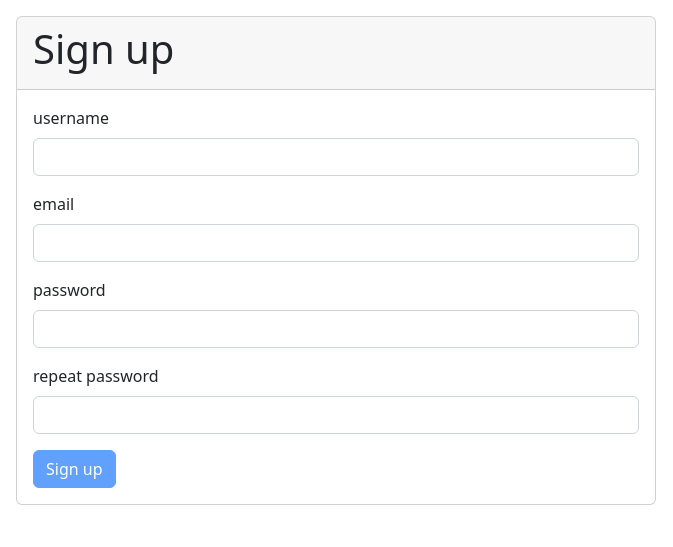
Test: Sign up page › Interactions › displays Incorrect username for username
The width and height of the screenshot is (673, 547).
Type "user1" into the field labelled "username" at (336, 157), box [33, 138, 639, 176]
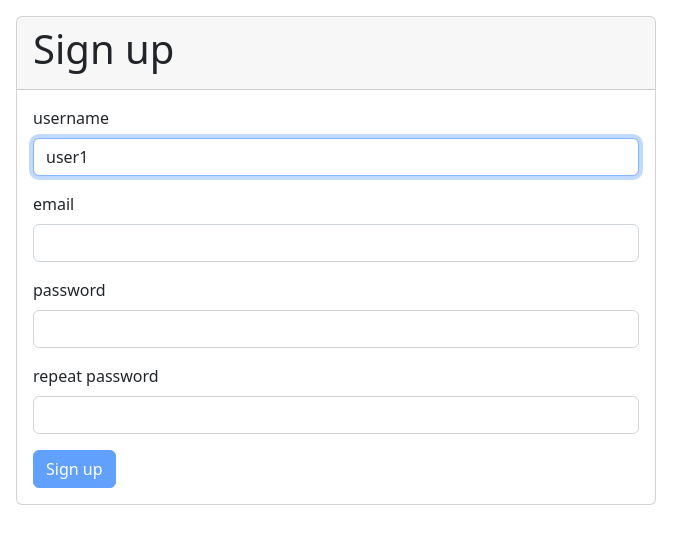
Type "user1@gmail.com" into the field labelled "email" at (336, 243), box [33, 224, 639, 262]
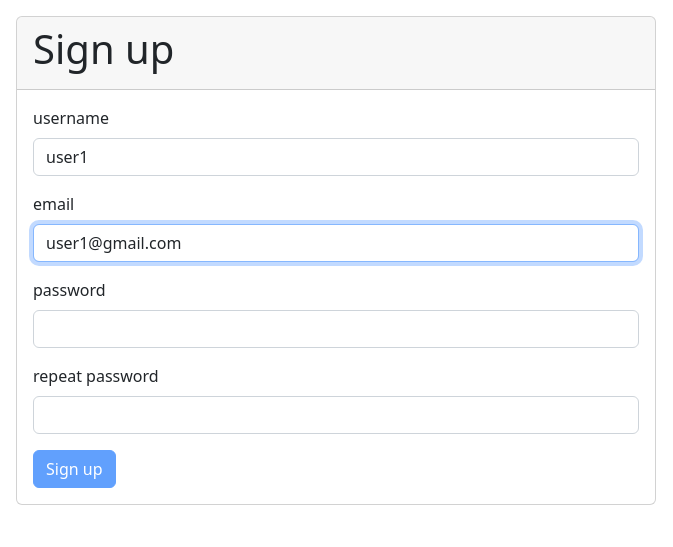
Type "P4ssword" into the password field labelled "password" at (336, 329), box [33, 310, 639, 348]
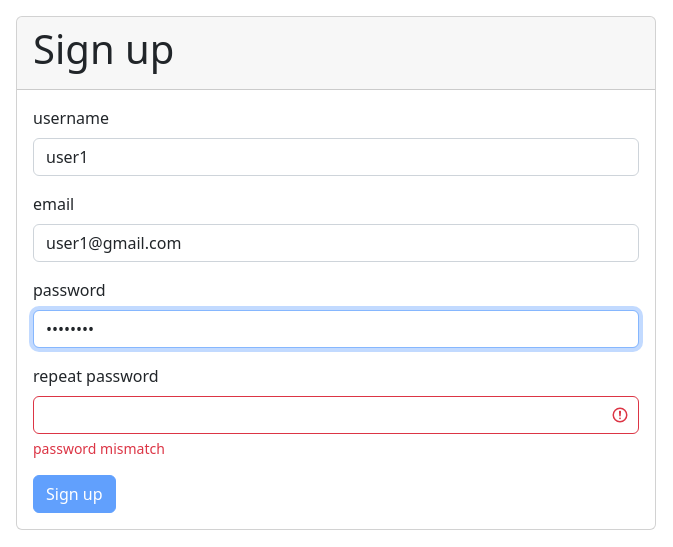
Type "P4ssword" into the password field labelled "repeat password" at (336, 415), box [33, 396, 639, 434]
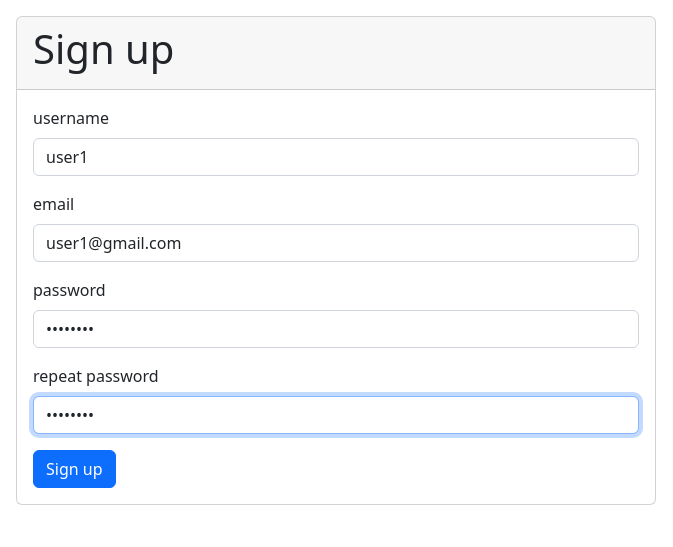
Click the button "Sign up" at (74, 469), box [33, 450, 116, 488]
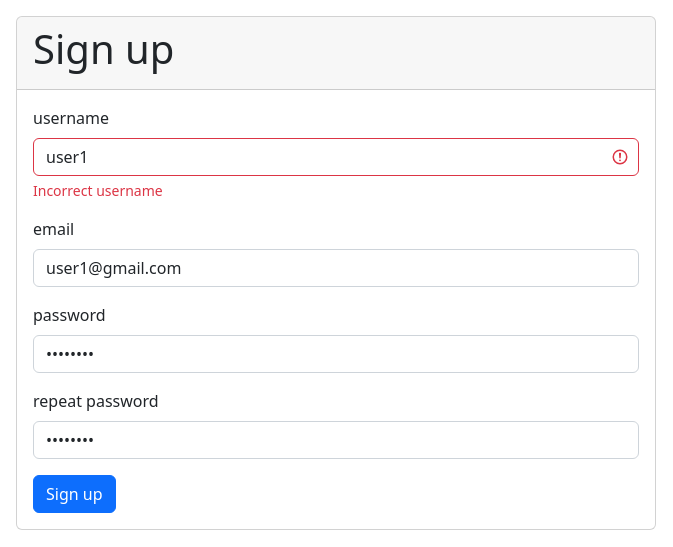
Expected: the text "Incorrect username" is shown, [33, 181, 163, 200]
